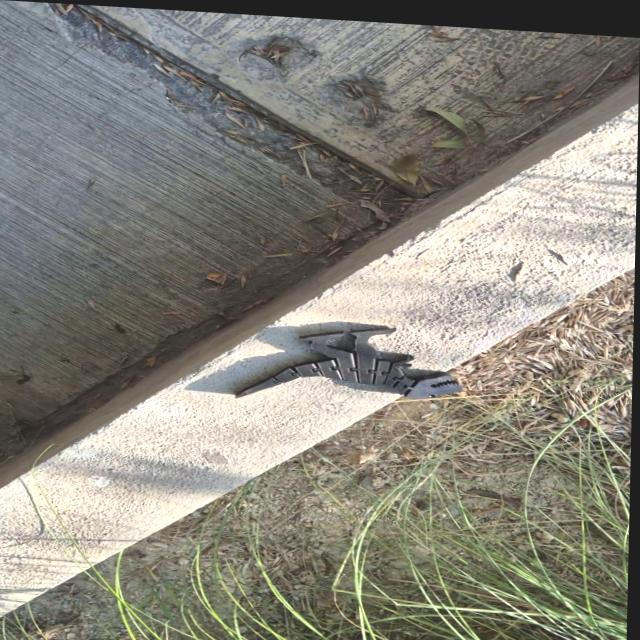dino: (233, 318, 465, 413)
